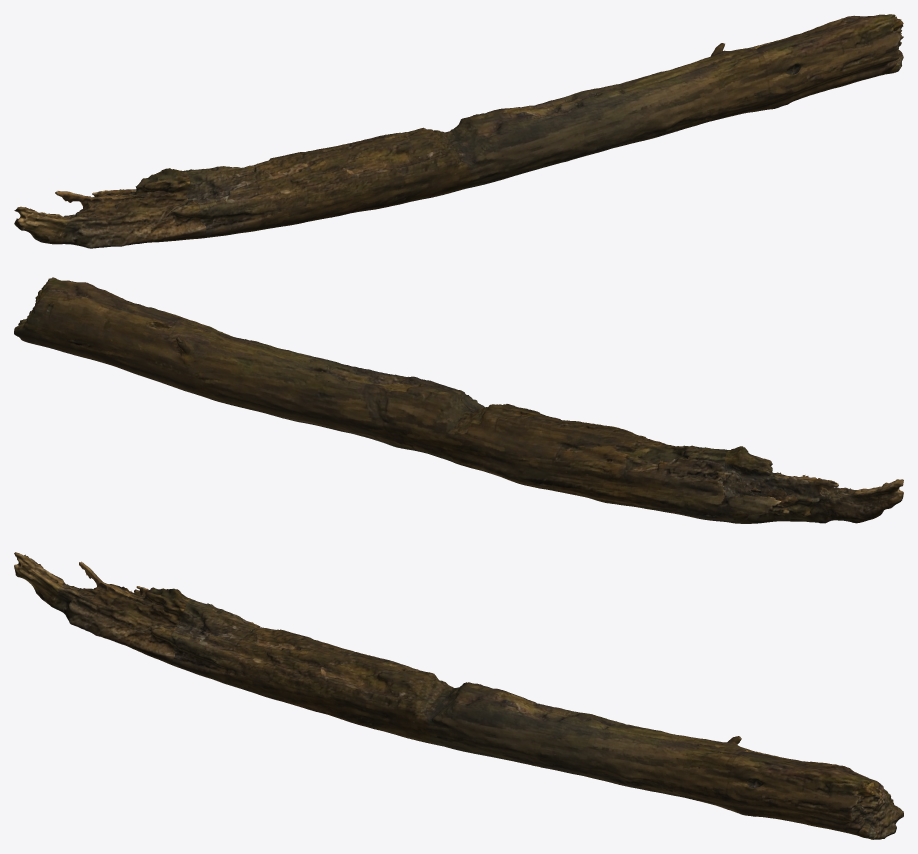
The model's file is dead_tree_trunk.gltf.
3 views of the same model, one above another, from view 1: azimuth 30°, elevation 25°; view 2: azimuth 150°, elevation 25°; view 3: azimuth 330°, elevation 25° (orthographic).
Visible parts, largest first — view 1: dead_tree_trunk; view 2: dead_tree_trunk; view 3: dead_tree_trunk.
Boxes of the visible parts, x1,y1,x2,y2 form: dead_tree_trunk: (14, 14, 903, 248); dead_tree_trunk: (14, 277, 903, 523); dead_tree_trunk: (14, 552, 903, 839).
Size of the model in its own units: 3.05 by 0.2904 by 0.2775.
Materials: 1 (1 with a texture image).
